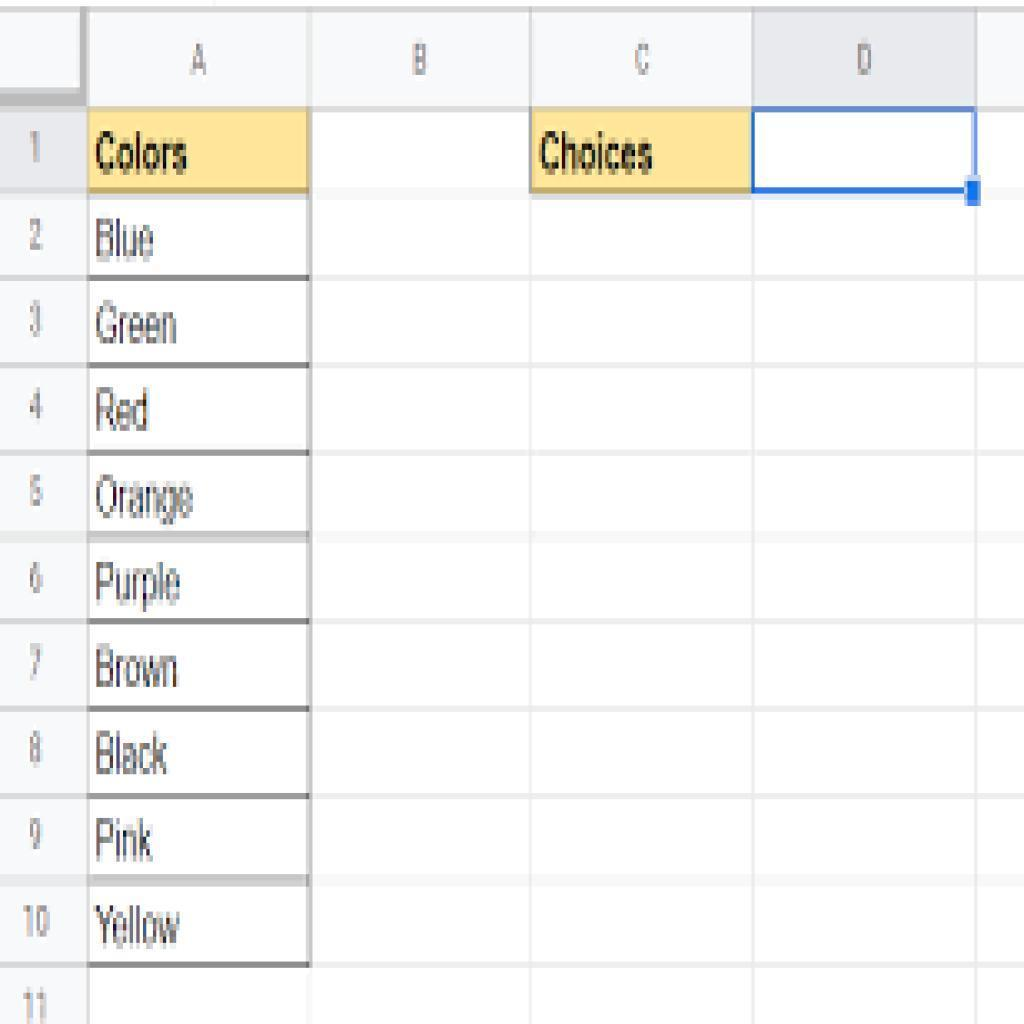table: (1, 9, 974, 971)
